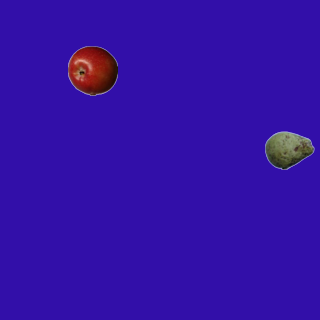Apple Braeburn: (67, 45, 117, 95)
Pear Stone: (264, 125, 314, 175)
